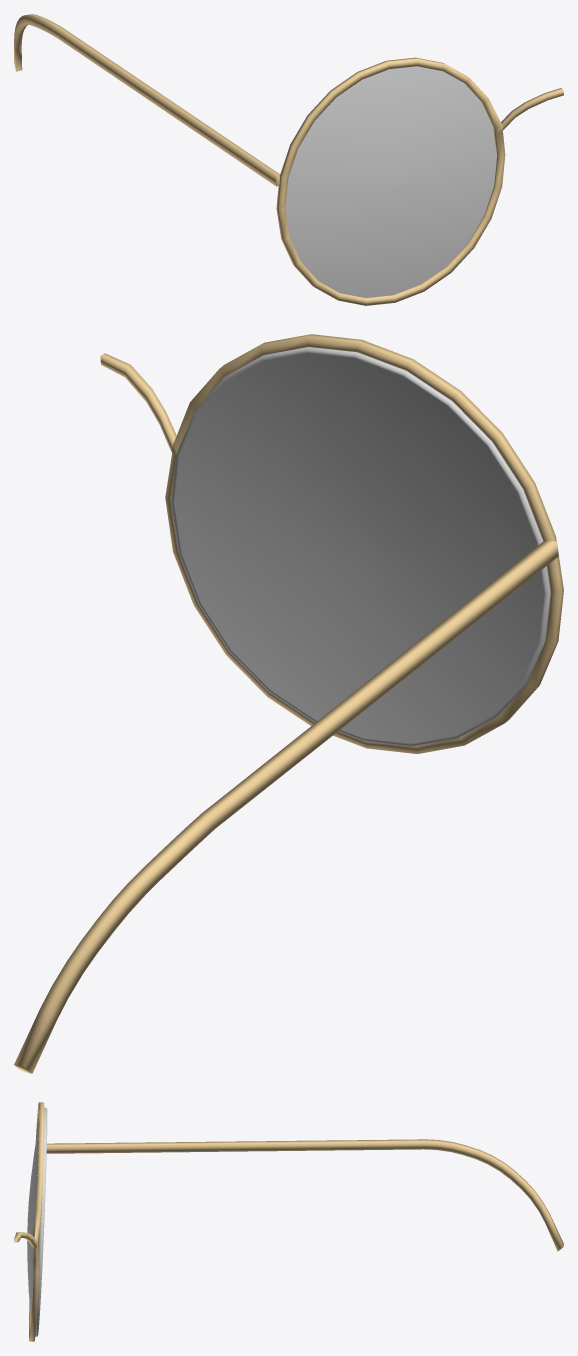
File: glasses.glb
3 renders of one model, top to bottom at view 1: azimuth 30°, elevation 25°; view 2: azimuth 150°, elevation 25°; view 3: azimuth 270°, elevation 25°, orthographic. The views are drawn at different scales.
Visible parts, largest first — view 1: glasses lenses, glasses frame; view 2: glasses lenses, glasses frame; view 3: glasses frame, glasses lenses.
Part boxes in pixels (x1,y1,x2,y2): glasses lenses: (285,66,497,297); glasses frame: (14,14,563,305); glasses lenses: (171,347,550,746); glasses frame: (14,334,563,1073); glasses frame: (14,1102,563,1341); glasses lenses: (27,1107,47,1336).
Bounding box in the file's own units: 0.0659 × 0.0521 × 0.1191.
